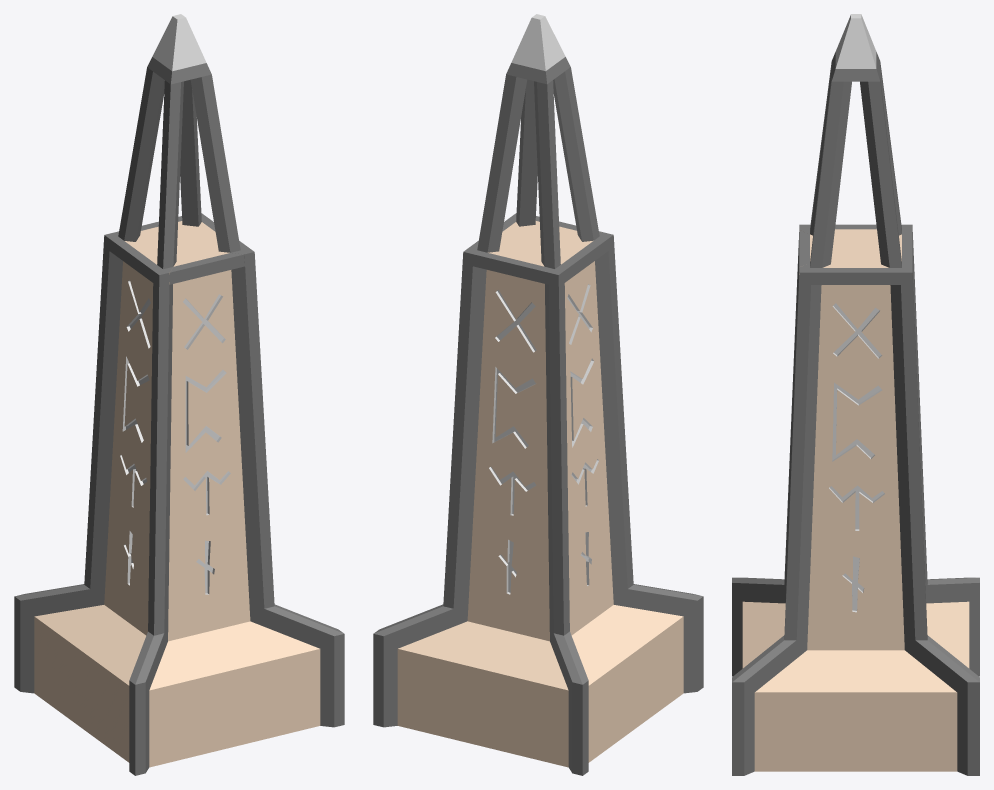
Rendered from obby.fbx.
The picture shows the model from 3 angles, left to right: view 1: azimuth 30°, elevation 25°; view 2: azimuth 150°, elevation 25°; view 3: azimuth 270°, elevation 25°; orthographic projection. The views are drawn at different scales.
Parts seen in each view (by area): view 1: Untitled; view 2: Untitled; view 3: Untitled.
Boxes of the visible parts, bbox=[...] form: Untitled: bbox=[14, 14, 344, 775]; Untitled: bbox=[373, 14, 703, 775]; Untitled: bbox=[732, 14, 979, 775].
Bounding box in the file's own units: 1335 × 4204 × 1335.
